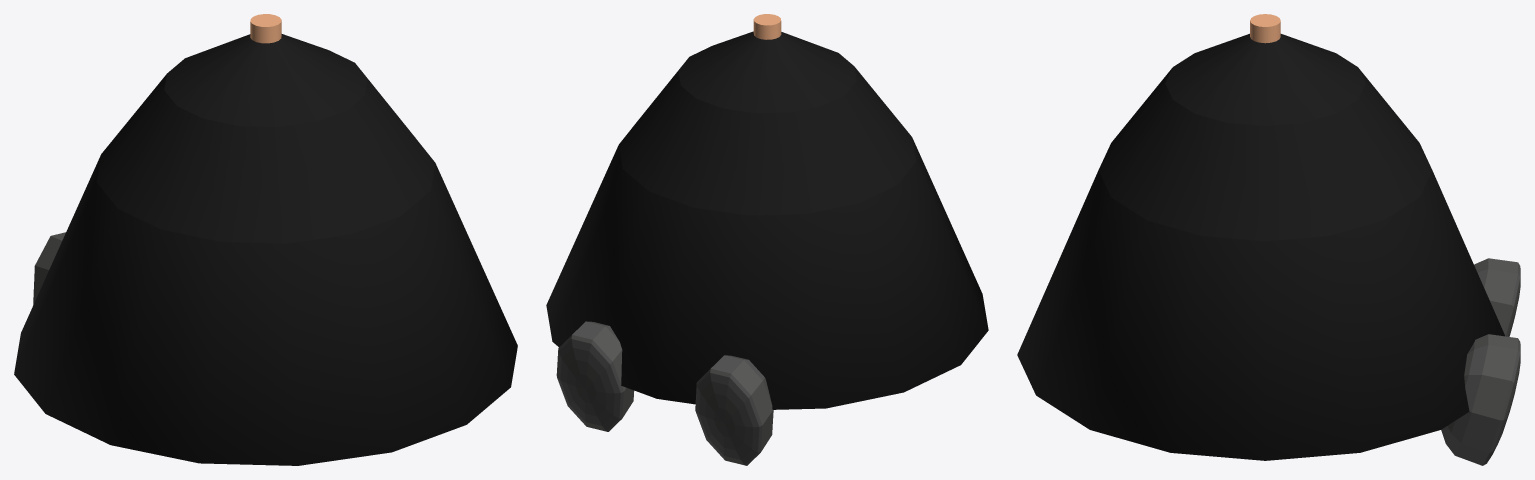
File: base_client.fbx
3 views of the same model, side by side, from view 1: azimuth 30°, elevation 25°; view 2: azimuth 150°, elevation 25°; view 3: azimuth 270°, elevation 25° (orthographic). The views are drawn at different scales.
Visible parts, largest first — view 1: polySurface91; view 2: polySurface91; view 3: polySurface91.
Part boxes in pixels (<box>): polySurface91: <box>14,14,517,465</box>; polySurface91: <box>546,14,988,465</box>; polySurface91: <box>1017,14,1520,465</box>.
Bounding box in the file's own units: 1.19 × 1.05 × 1.19.
